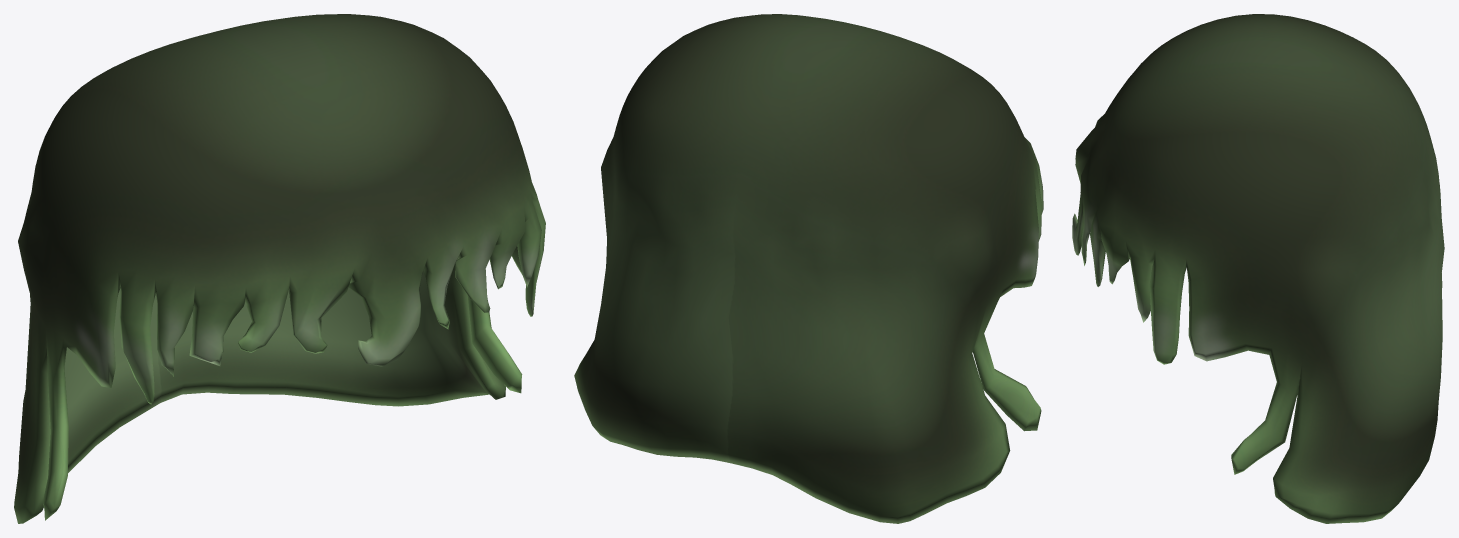
Rendered from OG_Frosted_Green.glb.
The picture shows the model from 3 angles, left to right: view 1: azimuth 30°, elevation 25°; view 2: azimuth 150°, elevation 25°; view 3: azimuth 270°, elevation 25°; orthographic projection. The views are drawn at different scales.
Parts seen in each view (by area): view 1: OG_Frosted_Green; view 2: OG_Frosted_Green; view 3: OG_Frosted_Green.
Boxes of the visible parts, left/top/right/bottom form: OG_Frosted_Green: left=14, top=14, right=545, bottom=523; OG_Frosted_Green: left=574, top=14, right=1043, bottom=523; OG_Frosted_Green: left=1072, top=14, right=1444, bottom=523.
Size of the model in its own units: 1.07 by 0.9721 by 0.8194.
Materials: 1 (1 with a texture image).
